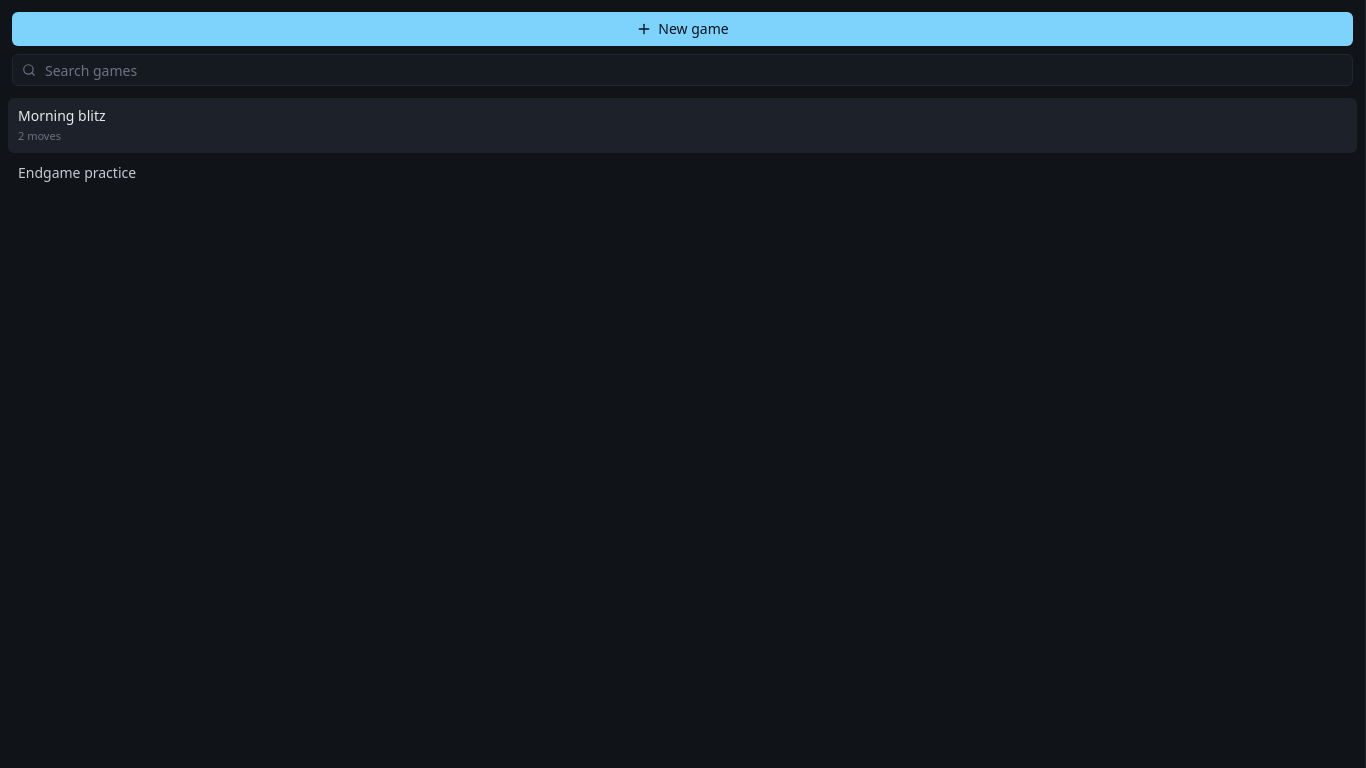
Test: ItemSidebar › filters, selects and marks the active item
The width and height of the screenshot is (1366, 768).
Later steps or results of the test are not shown.
Type "endgame" into the field labelled "Search games".
click(682, 70); type("endgame")  # box top-left (12, 54), bottom-right (1353, 86)
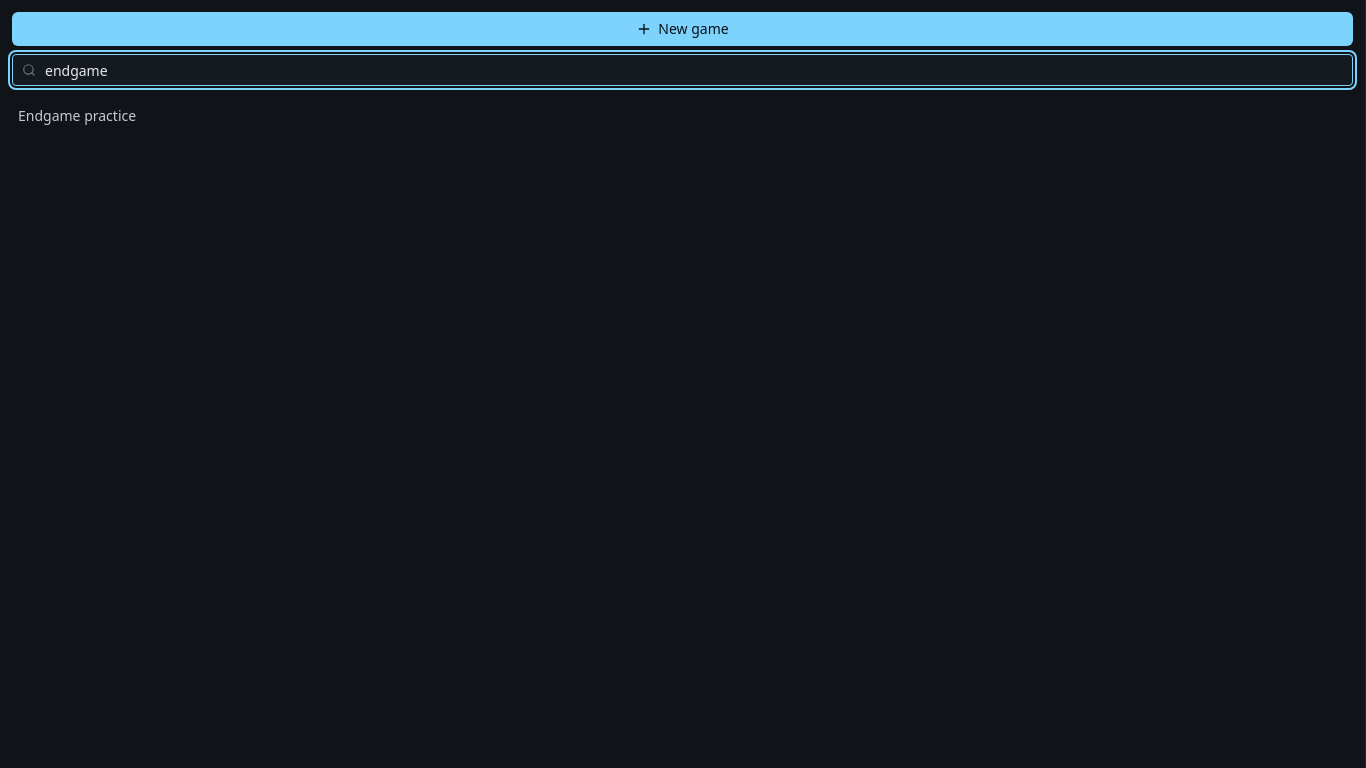
Expected: the button "Morning blitz" is gone
